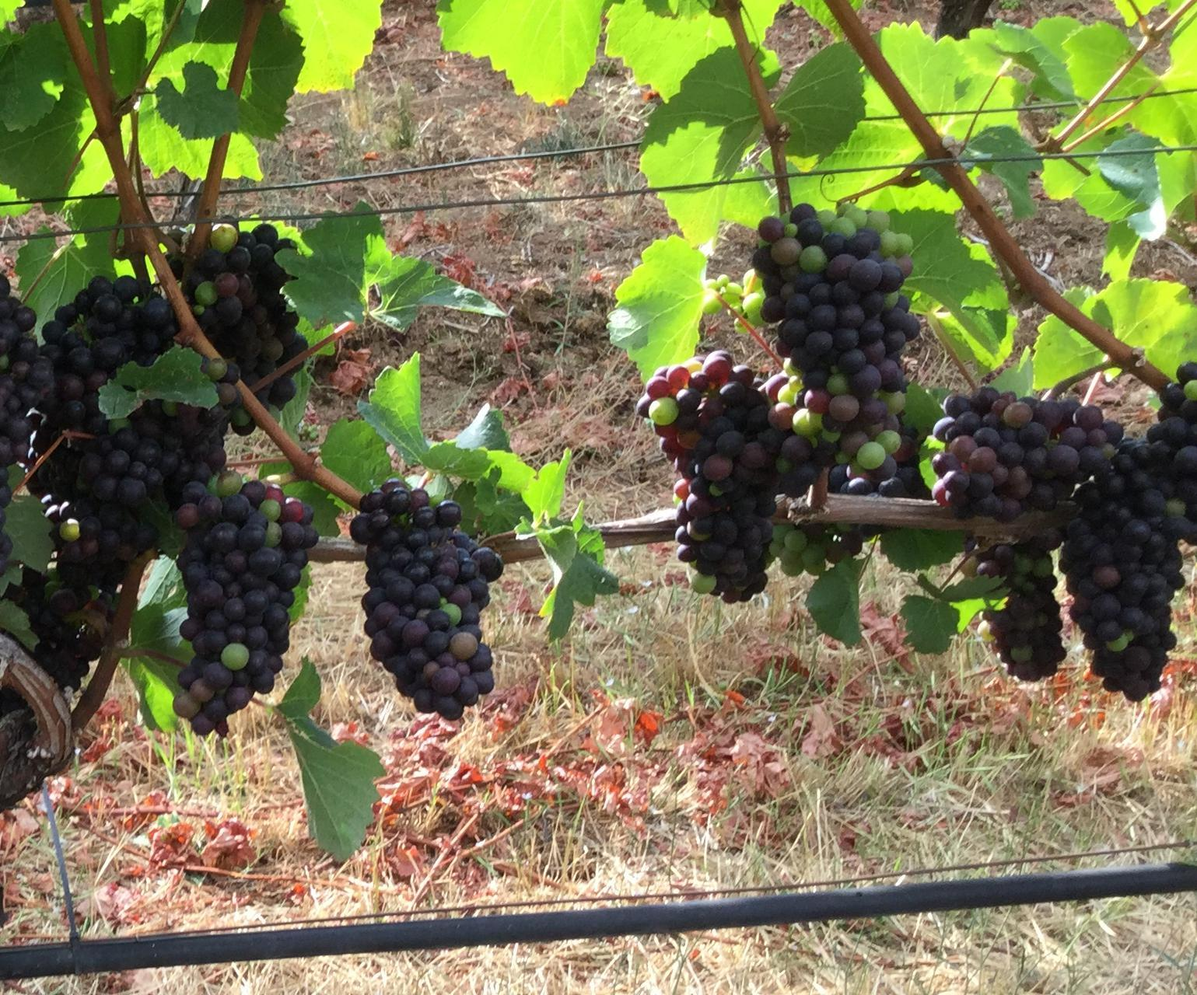Grape Ripe: (642, 350, 821, 614), (335, 471, 525, 717), (40, 224, 170, 543), (164, 457, 298, 745), (186, 210, 346, 432), (1059, 412, 1187, 688), (936, 360, 1087, 521), (0, 552, 113, 684), (4, 257, 38, 518)
